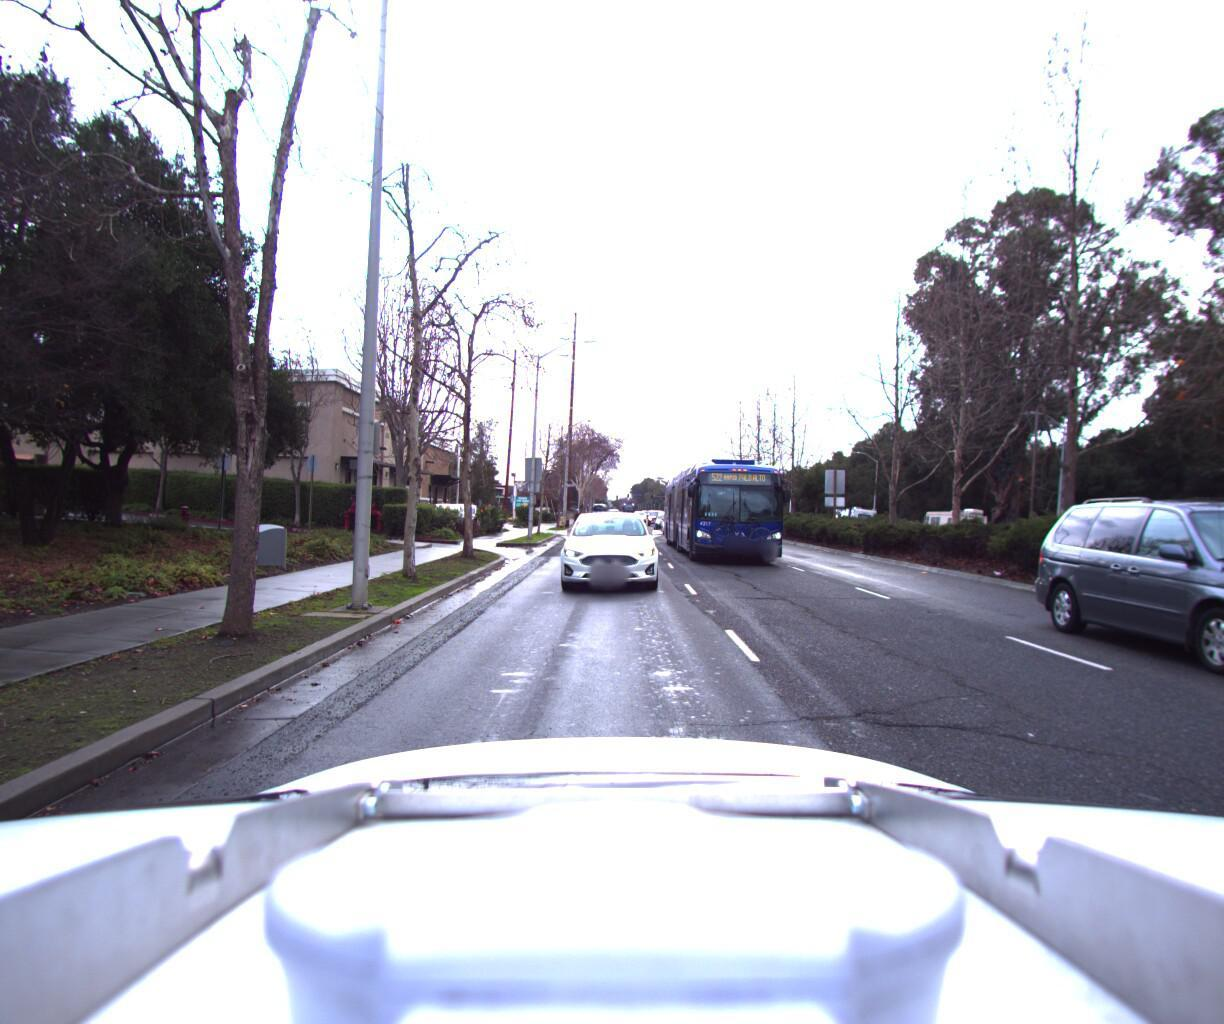bus: (655, 457, 800, 582)
car: (1029, 485, 1224, 720), (551, 498, 665, 606)
other_vehicle: (916, 513, 995, 557)
